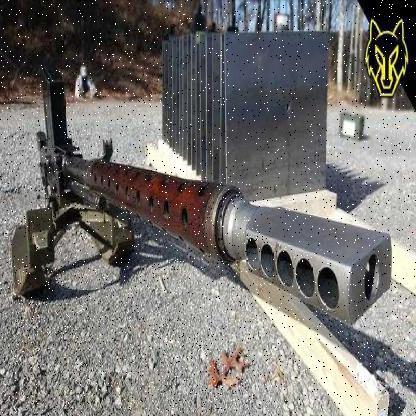rifle: (33, 62, 395, 342)
